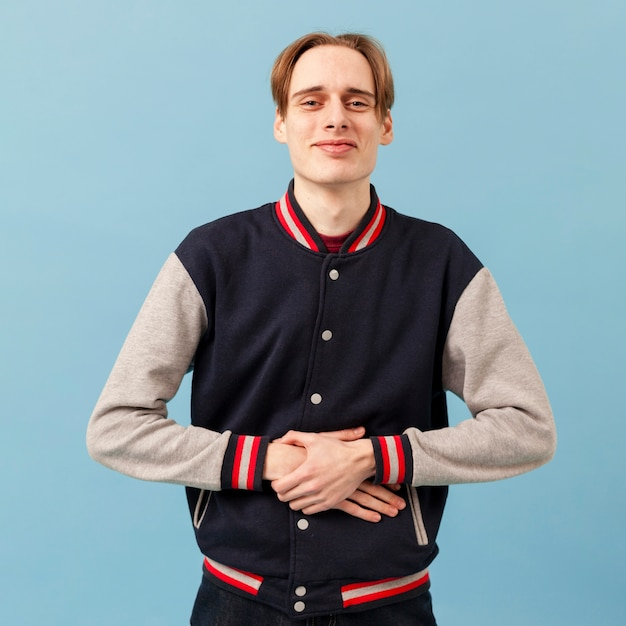teen: (267, 27, 415, 222)
